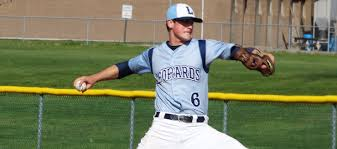baseball: (74, 79, 88, 93)
baseball player: (73, 2, 277, 149)
